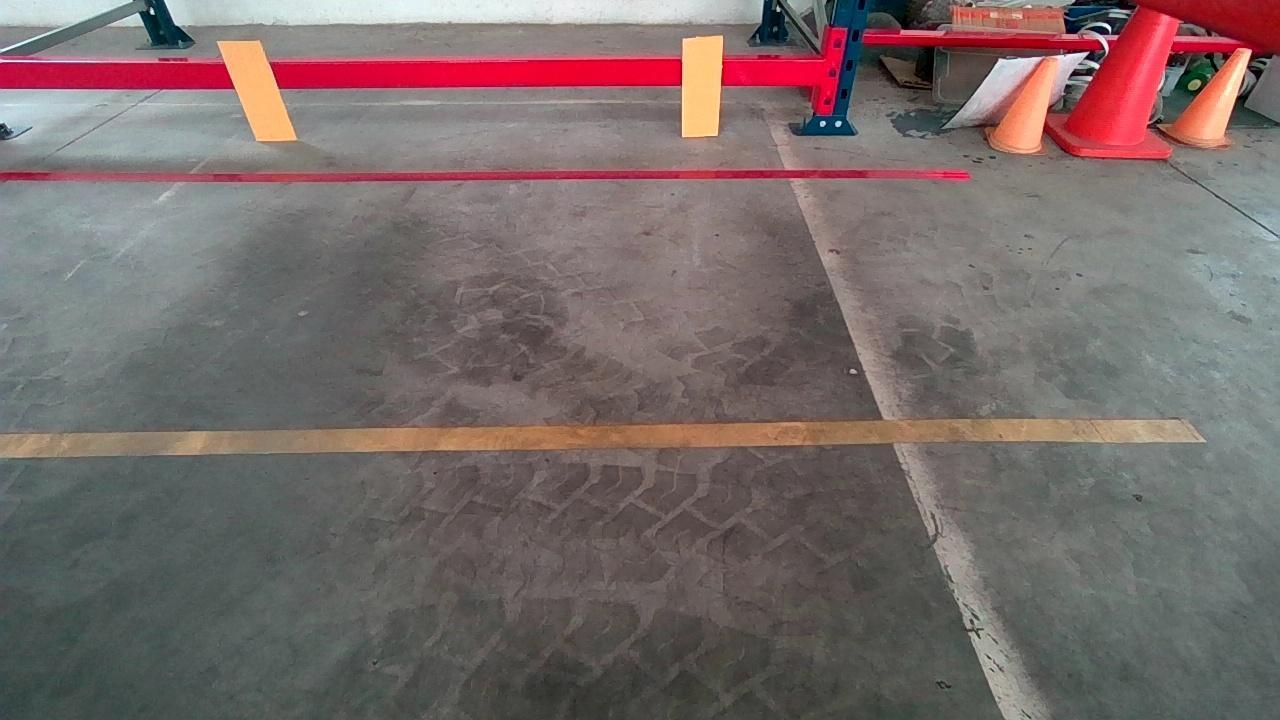h_rack: (0, 59, 819, 89)
orange_strip: (218, 40, 297, 139), (681, 37, 722, 134)
red_line: (0, 168, 975, 183)
yellow_line: (0, 419, 1206, 455)
